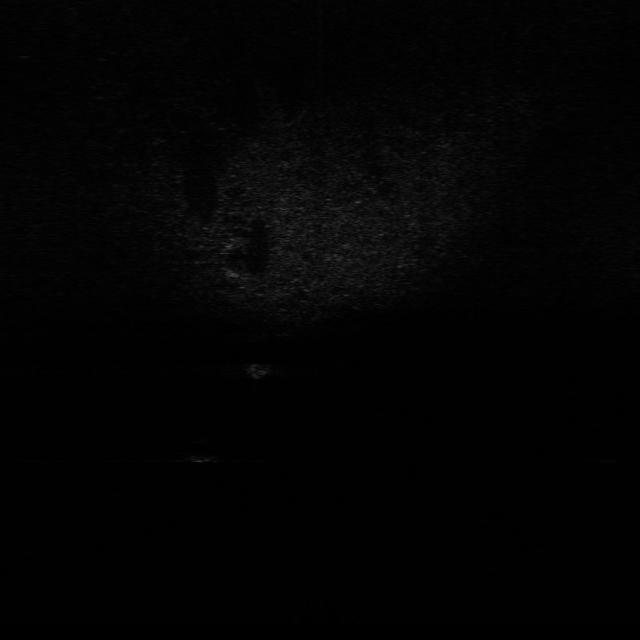ball: (179, 434, 223, 468)
cube: (240, 357, 282, 382)
